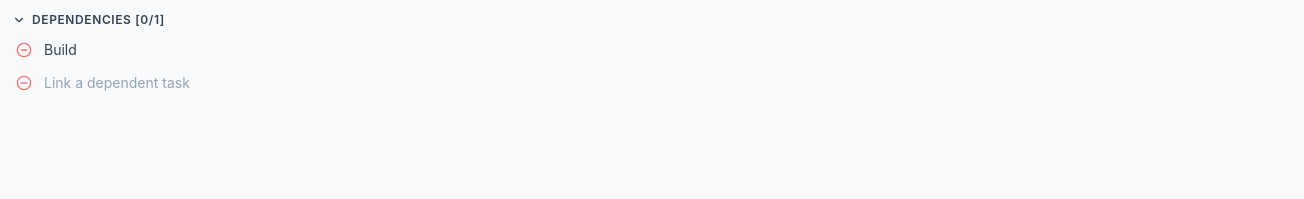
Scenario: TaskDependencies › linking a task › offers only other, unlinked tasks of the project with their list name
Click the dropdown at (668, 83), box [44,71,1292,95]
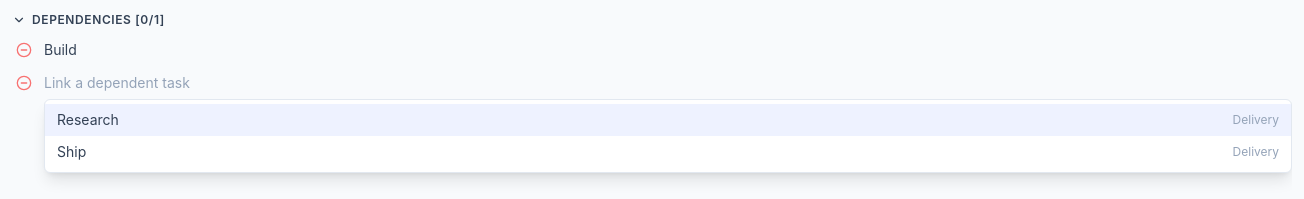
Result: the options read "ResearchDelivery", "ShipDelivery", in this order at [45,104,1291,136]; [57,143,1279,160]
